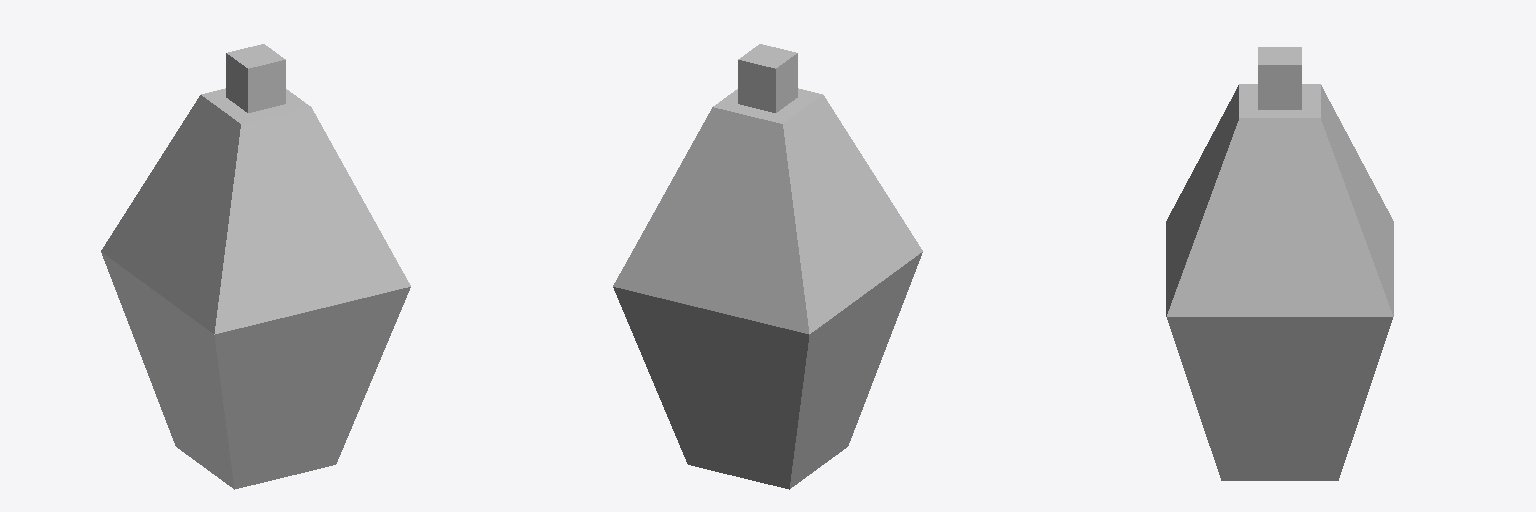
File: testModel.obj
3 renders of one model, left to right at view 1: azimuth 30°, elevation 25°; view 2: azimuth 150°, elevation 25°; view 3: azimuth 270°, elevation 25°, orthographic.
Parts seen in each view (by area): view 1: Cube; view 2: Cube; view 3: Cube.
Boxes of the visible parts, x1,y1,x2,y2 form: Cube: [101, 44, 410, 489]; Cube: [613, 44, 922, 489]; Cube: [1166, 47, 1393, 480].
Bounding box in the file's own units: 387 × 750 × 387.